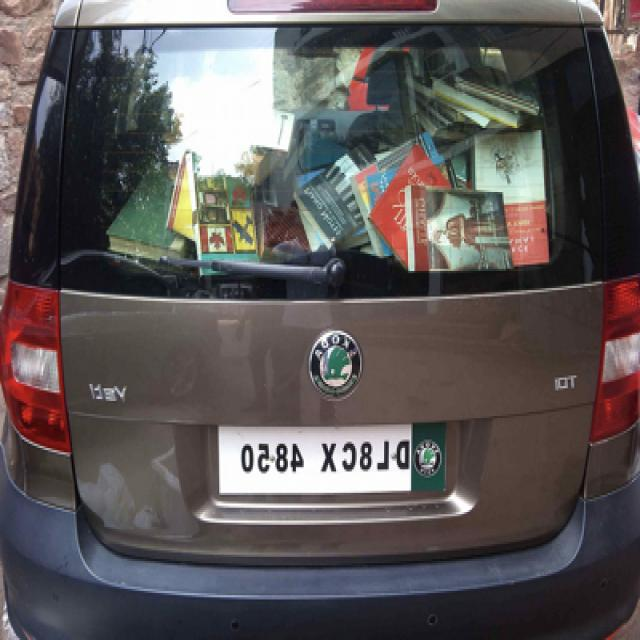number-plate: (224, 437, 458, 485)
